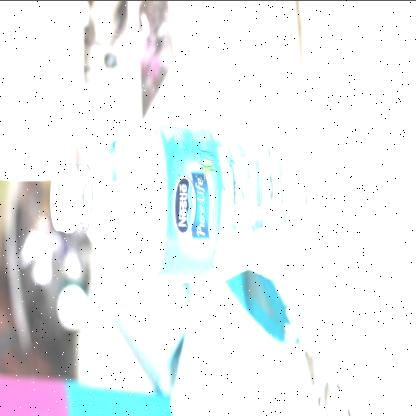Plastic Bottle: (50, 120, 366, 286)
